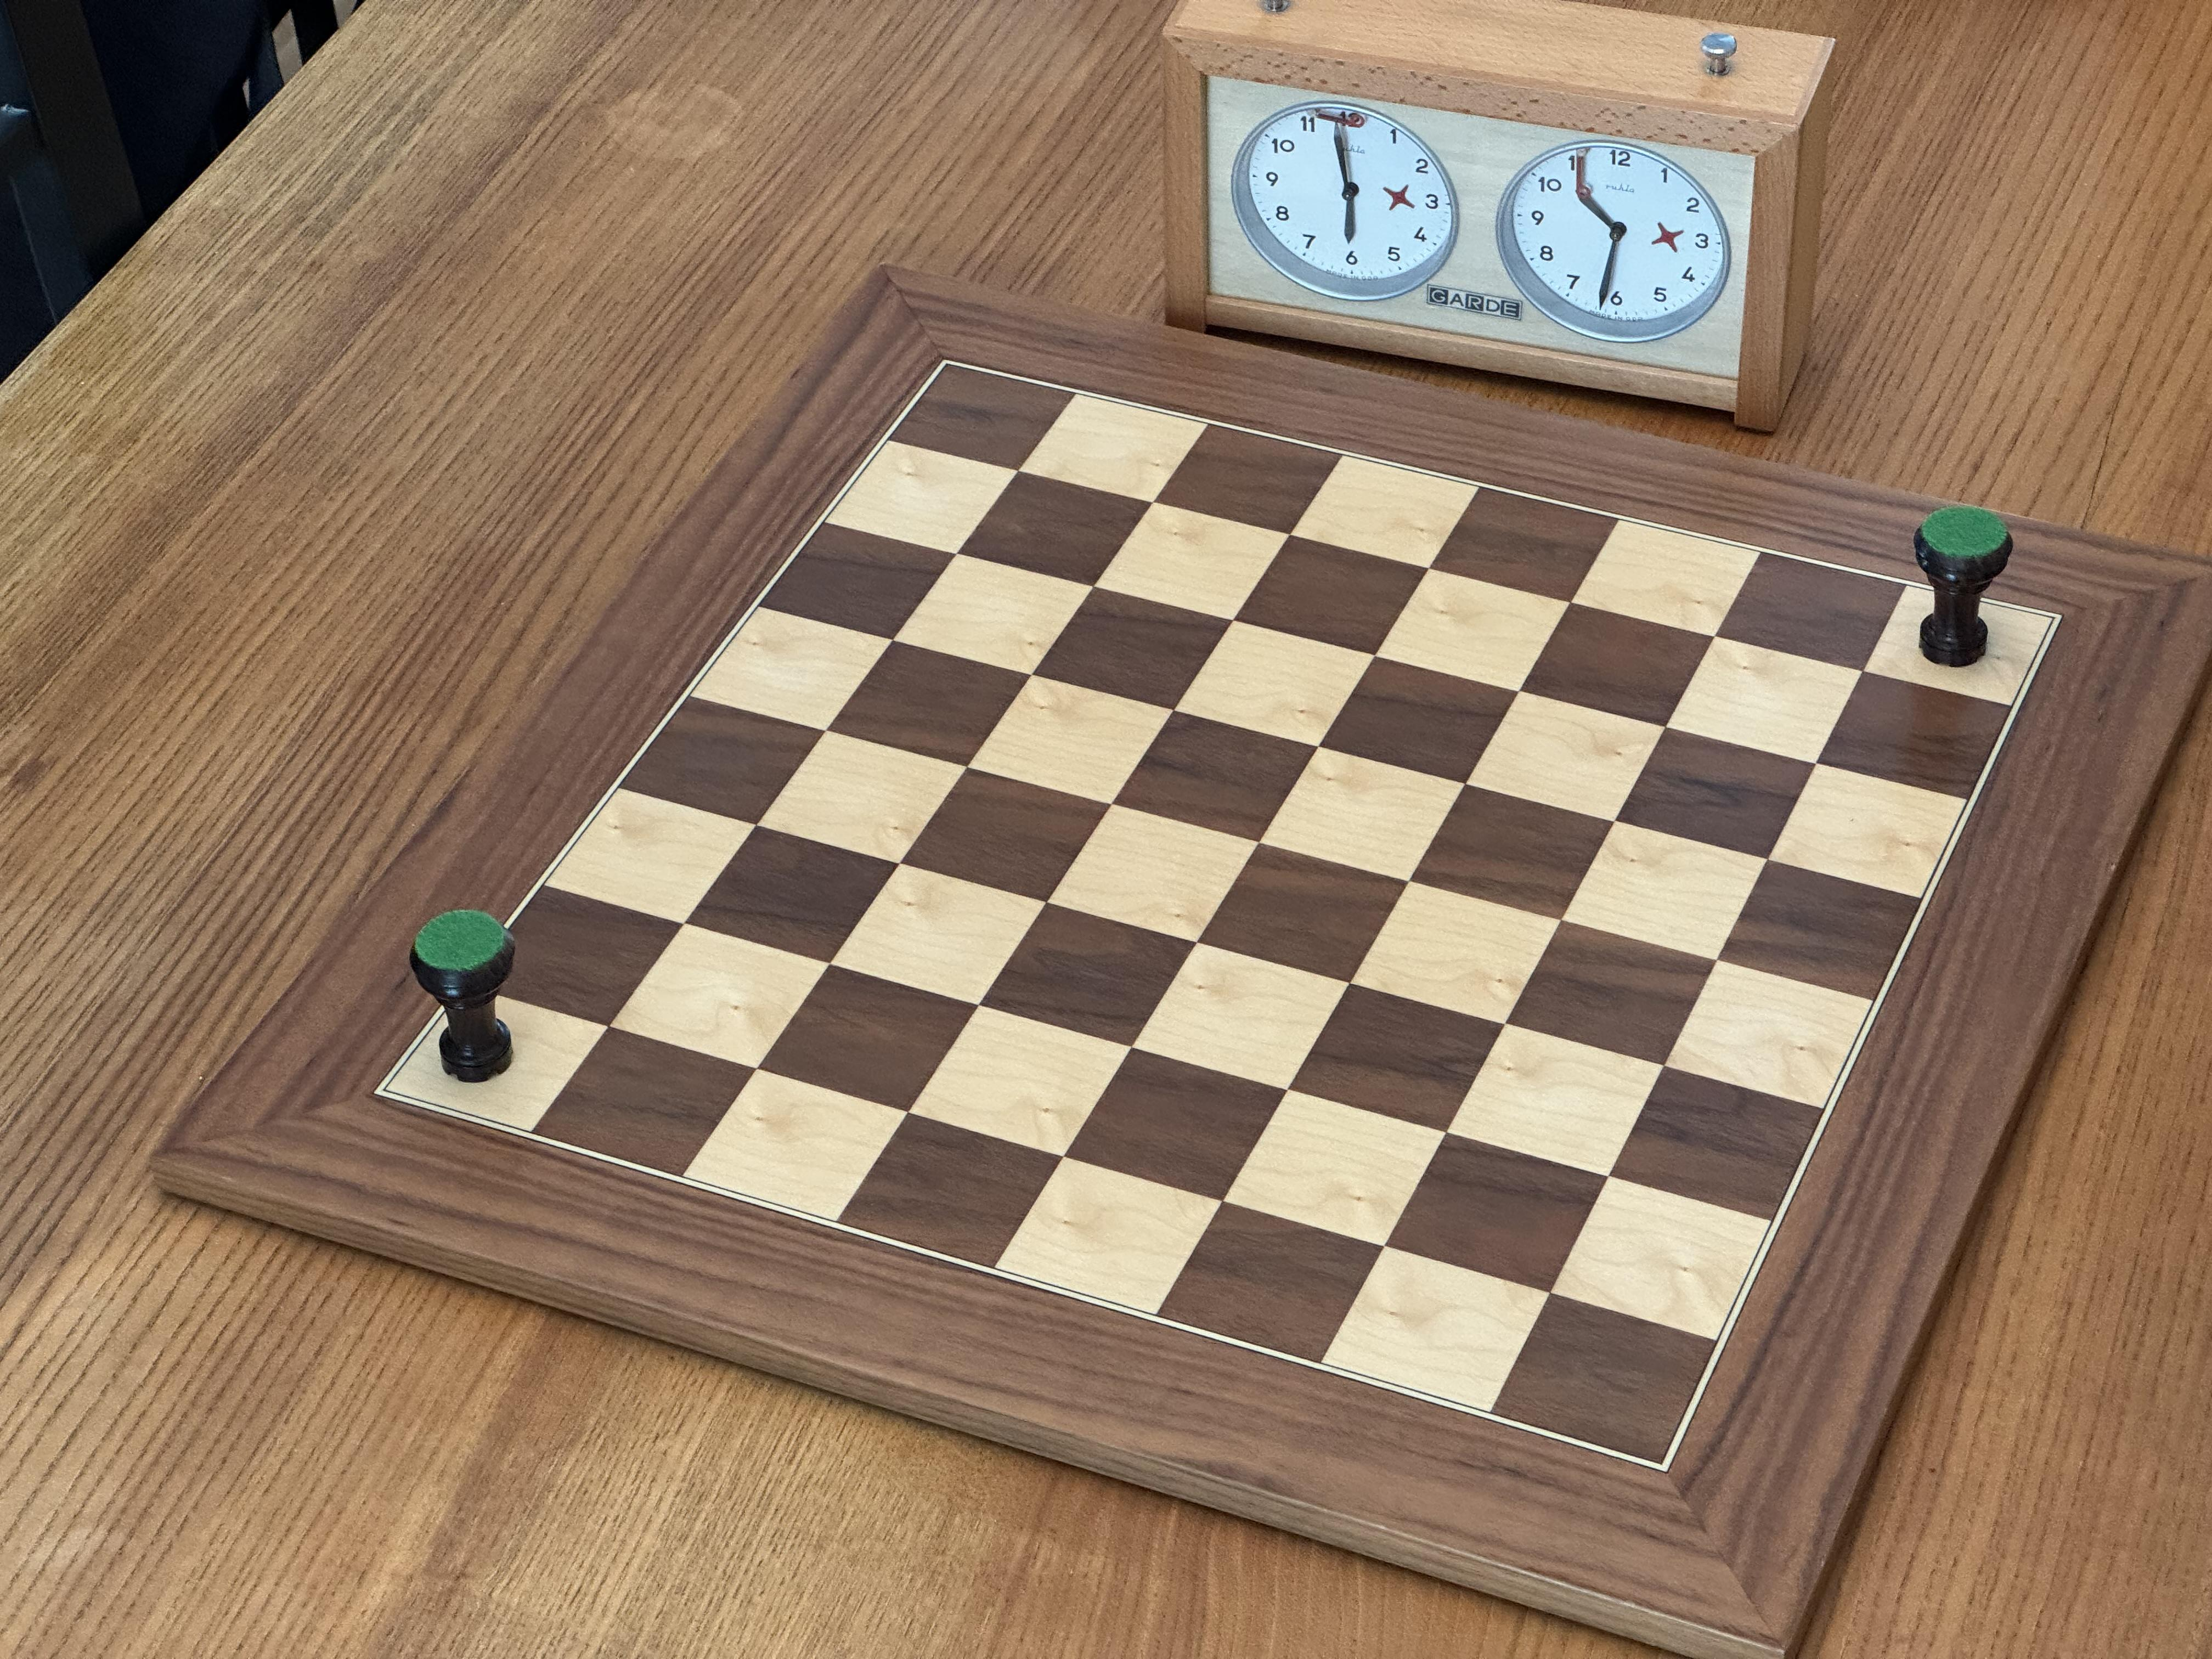corner A: (298, 1009, 467, 1175)
corner B: (1576, 1371, 1764, 1556)
corner C: (1975, 533, 2137, 702)
